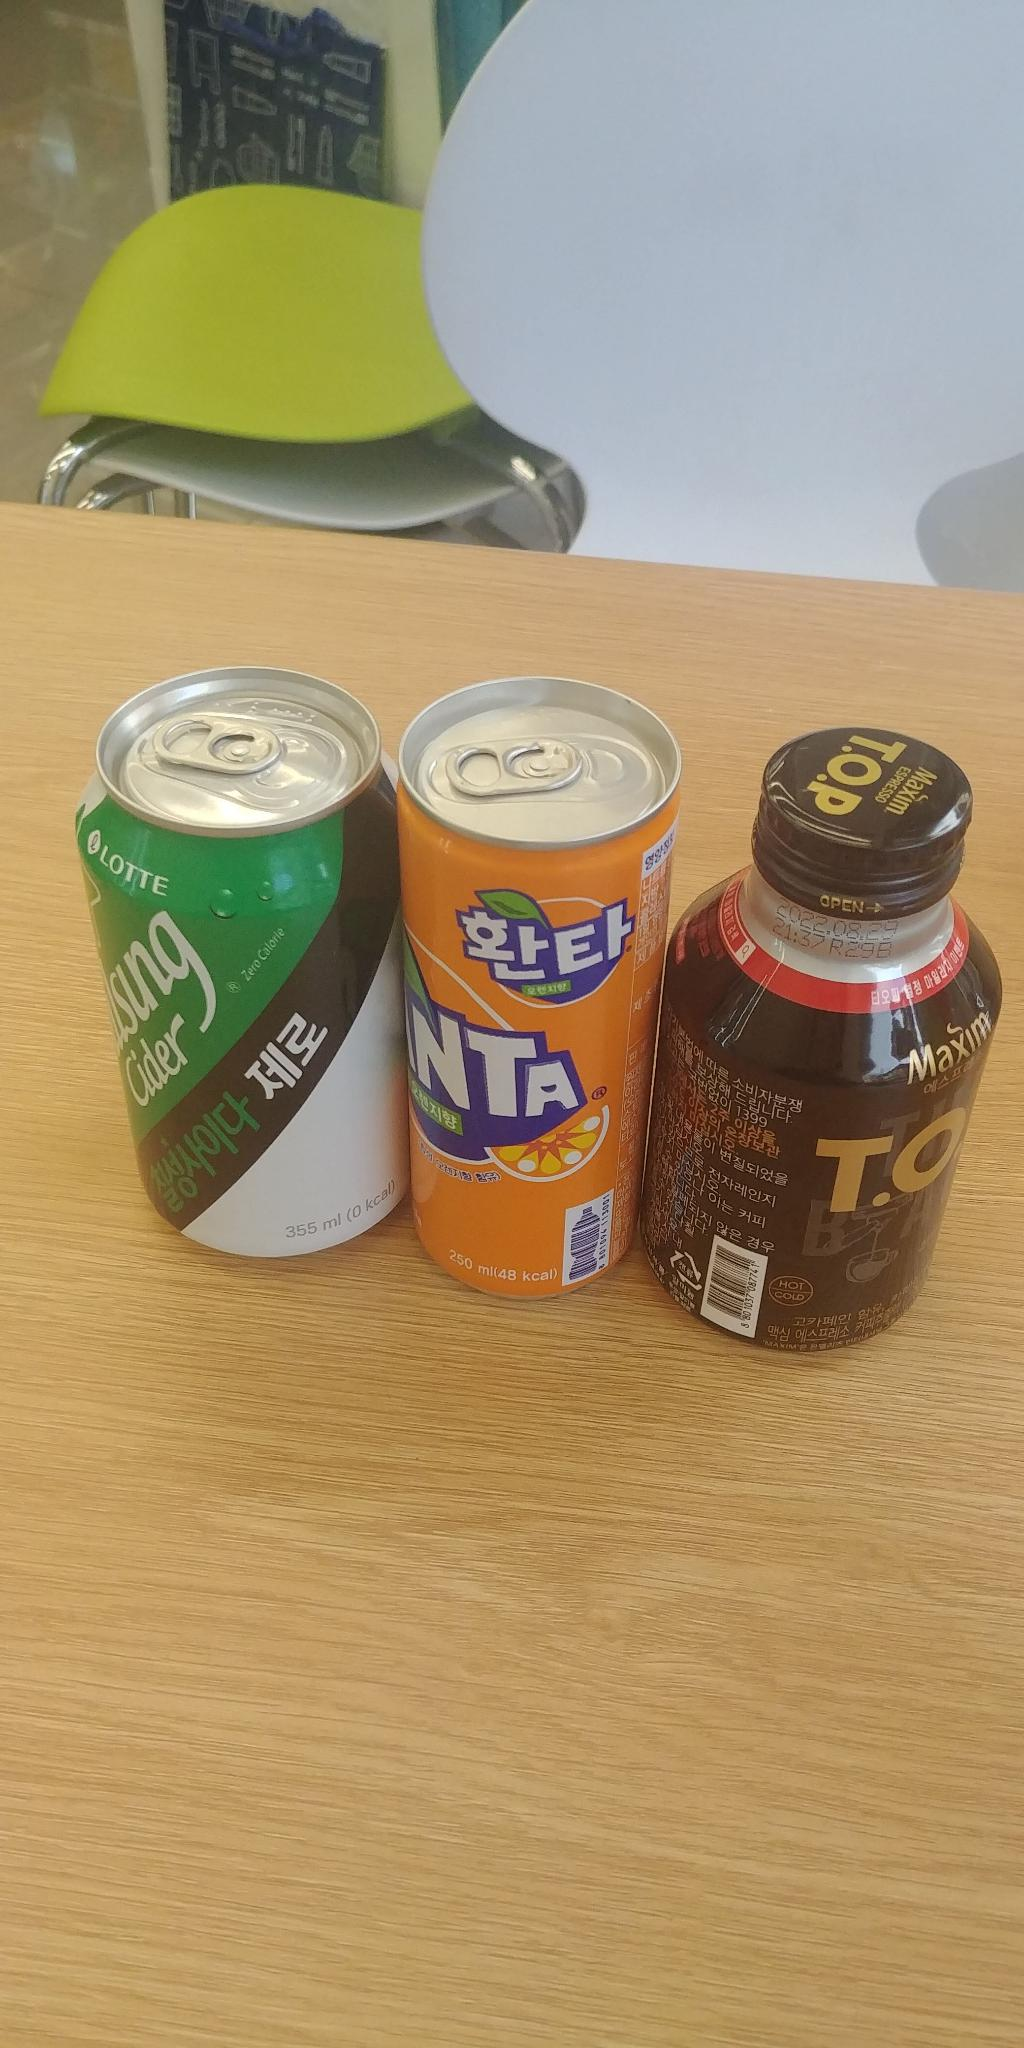TOP_black: (656, 707, 1011, 1364)
